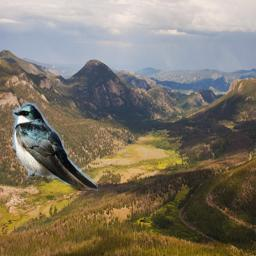Swallow: (12, 102, 98, 191)
